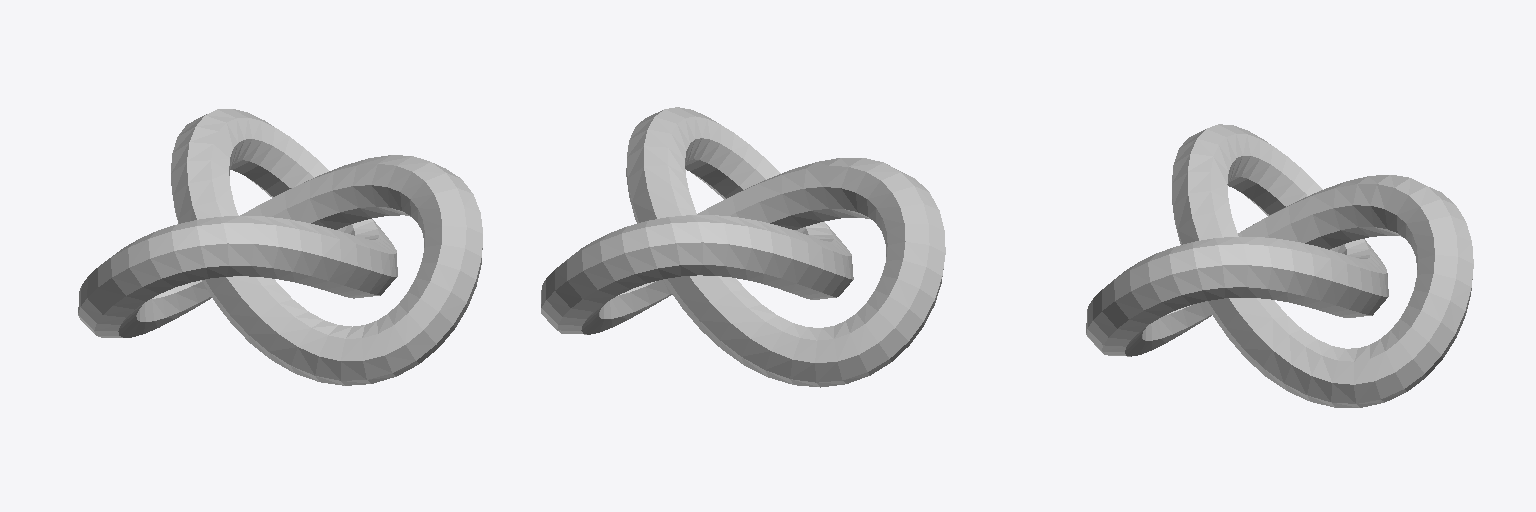
Rendered from TorusKnotShape.obj.
3 views of the same model, side by side, from view 1: azimuth 30°, elevation 25°; view 2: azimuth 150°, elevation 25°; view 3: azimuth 270°, elevation 25° (orthographic).
Visible parts, largest first — view 1: Torus_Knot; view 2: Torus_Knot; view 3: Torus_Knot.
Part boxes in pixels (x1,y1,x2,y2): Torus_Knot: (78,109,482,385); Torus_Knot: (541,107,945,387); Torus_Knot: (1086,124,1473,407).
Bounding box in the file's own units: 192 × 88.92 × 192.